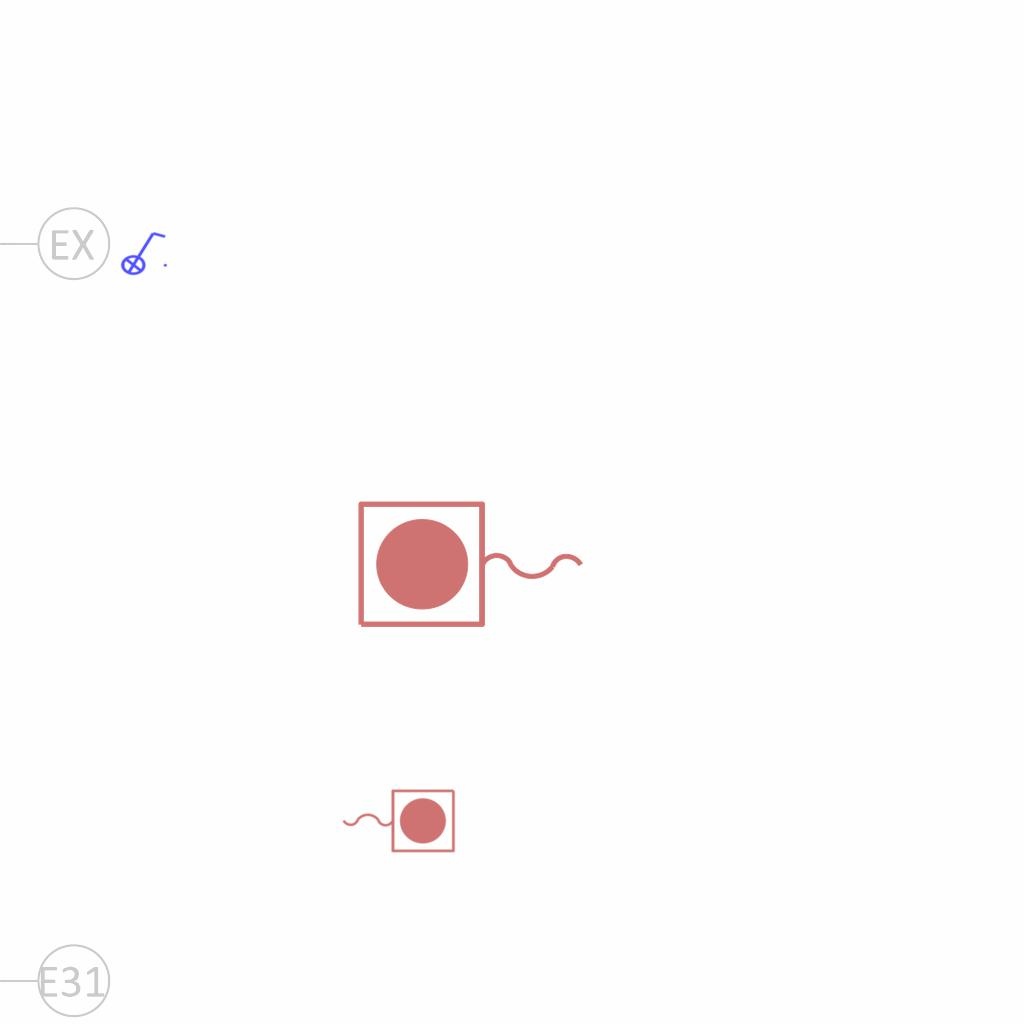Ausschalter_beleuchtet: (114, 228, 170, 276)
Zugtaster: (350, 494, 594, 638), (337, 784, 459, 856)
